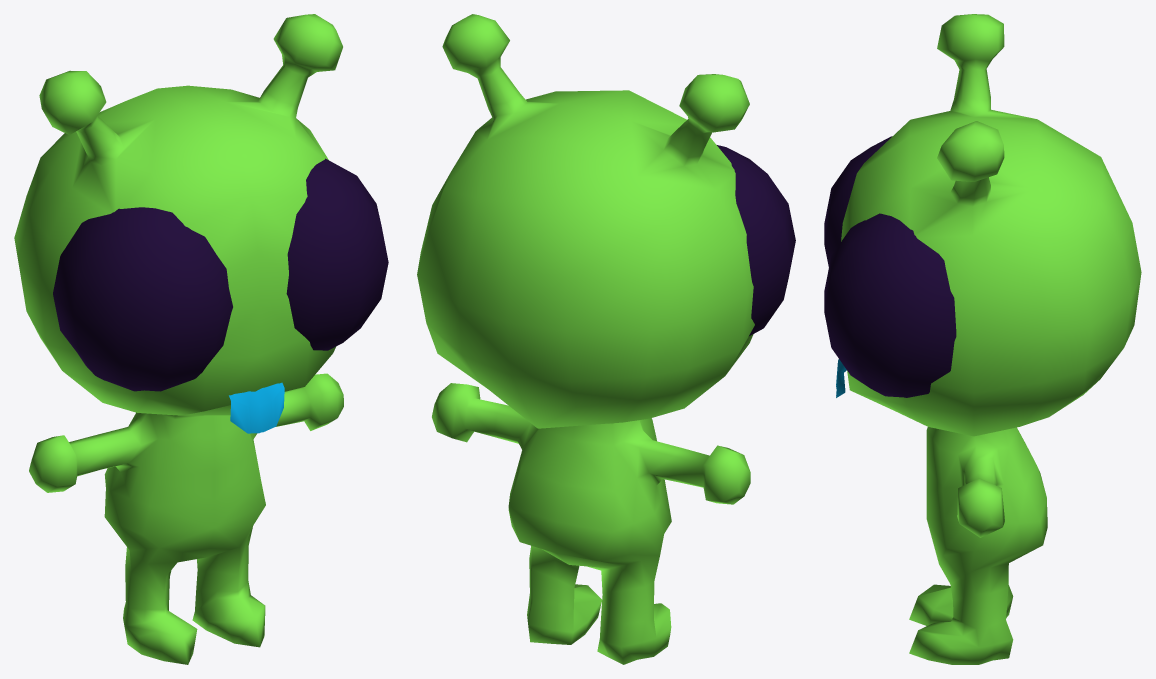
File: alien.glb
The picture shows the model from 3 angles, left to right: view 1: azimuth 30°, elevation 25°; view 2: azimuth 150°, elevation 25°; view 3: azimuth 270°, elevation 25°; orthographic projection. The views are drawn at different scales.
Visible parts, largest first — view 1: Body; view 2: Body; view 3: Body.
Boxes of the visible parts, x1,y1,x2,y2 form: Body: (14, 14, 388, 664); Body: (417, 14, 795, 664); Body: (824, 14, 1141, 664).
Size of the model in its own units: 1.75 by 3.16 by 1.6.
